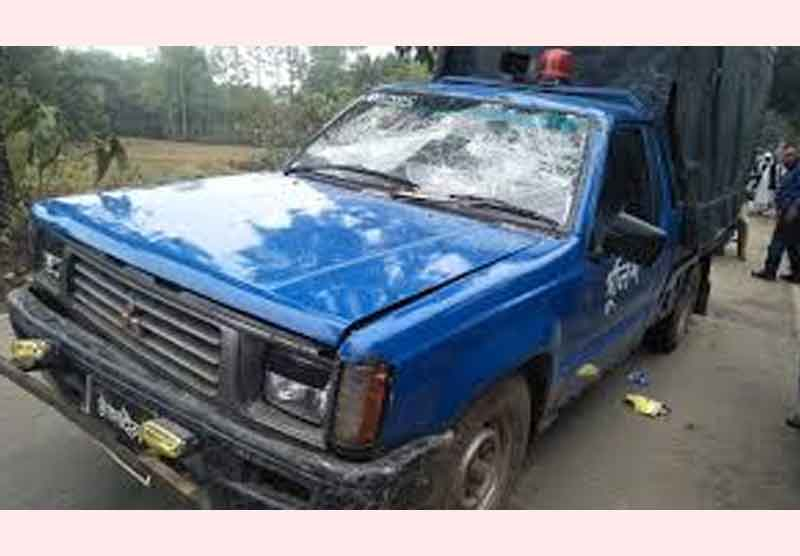policecar: (1, 47, 783, 509)
